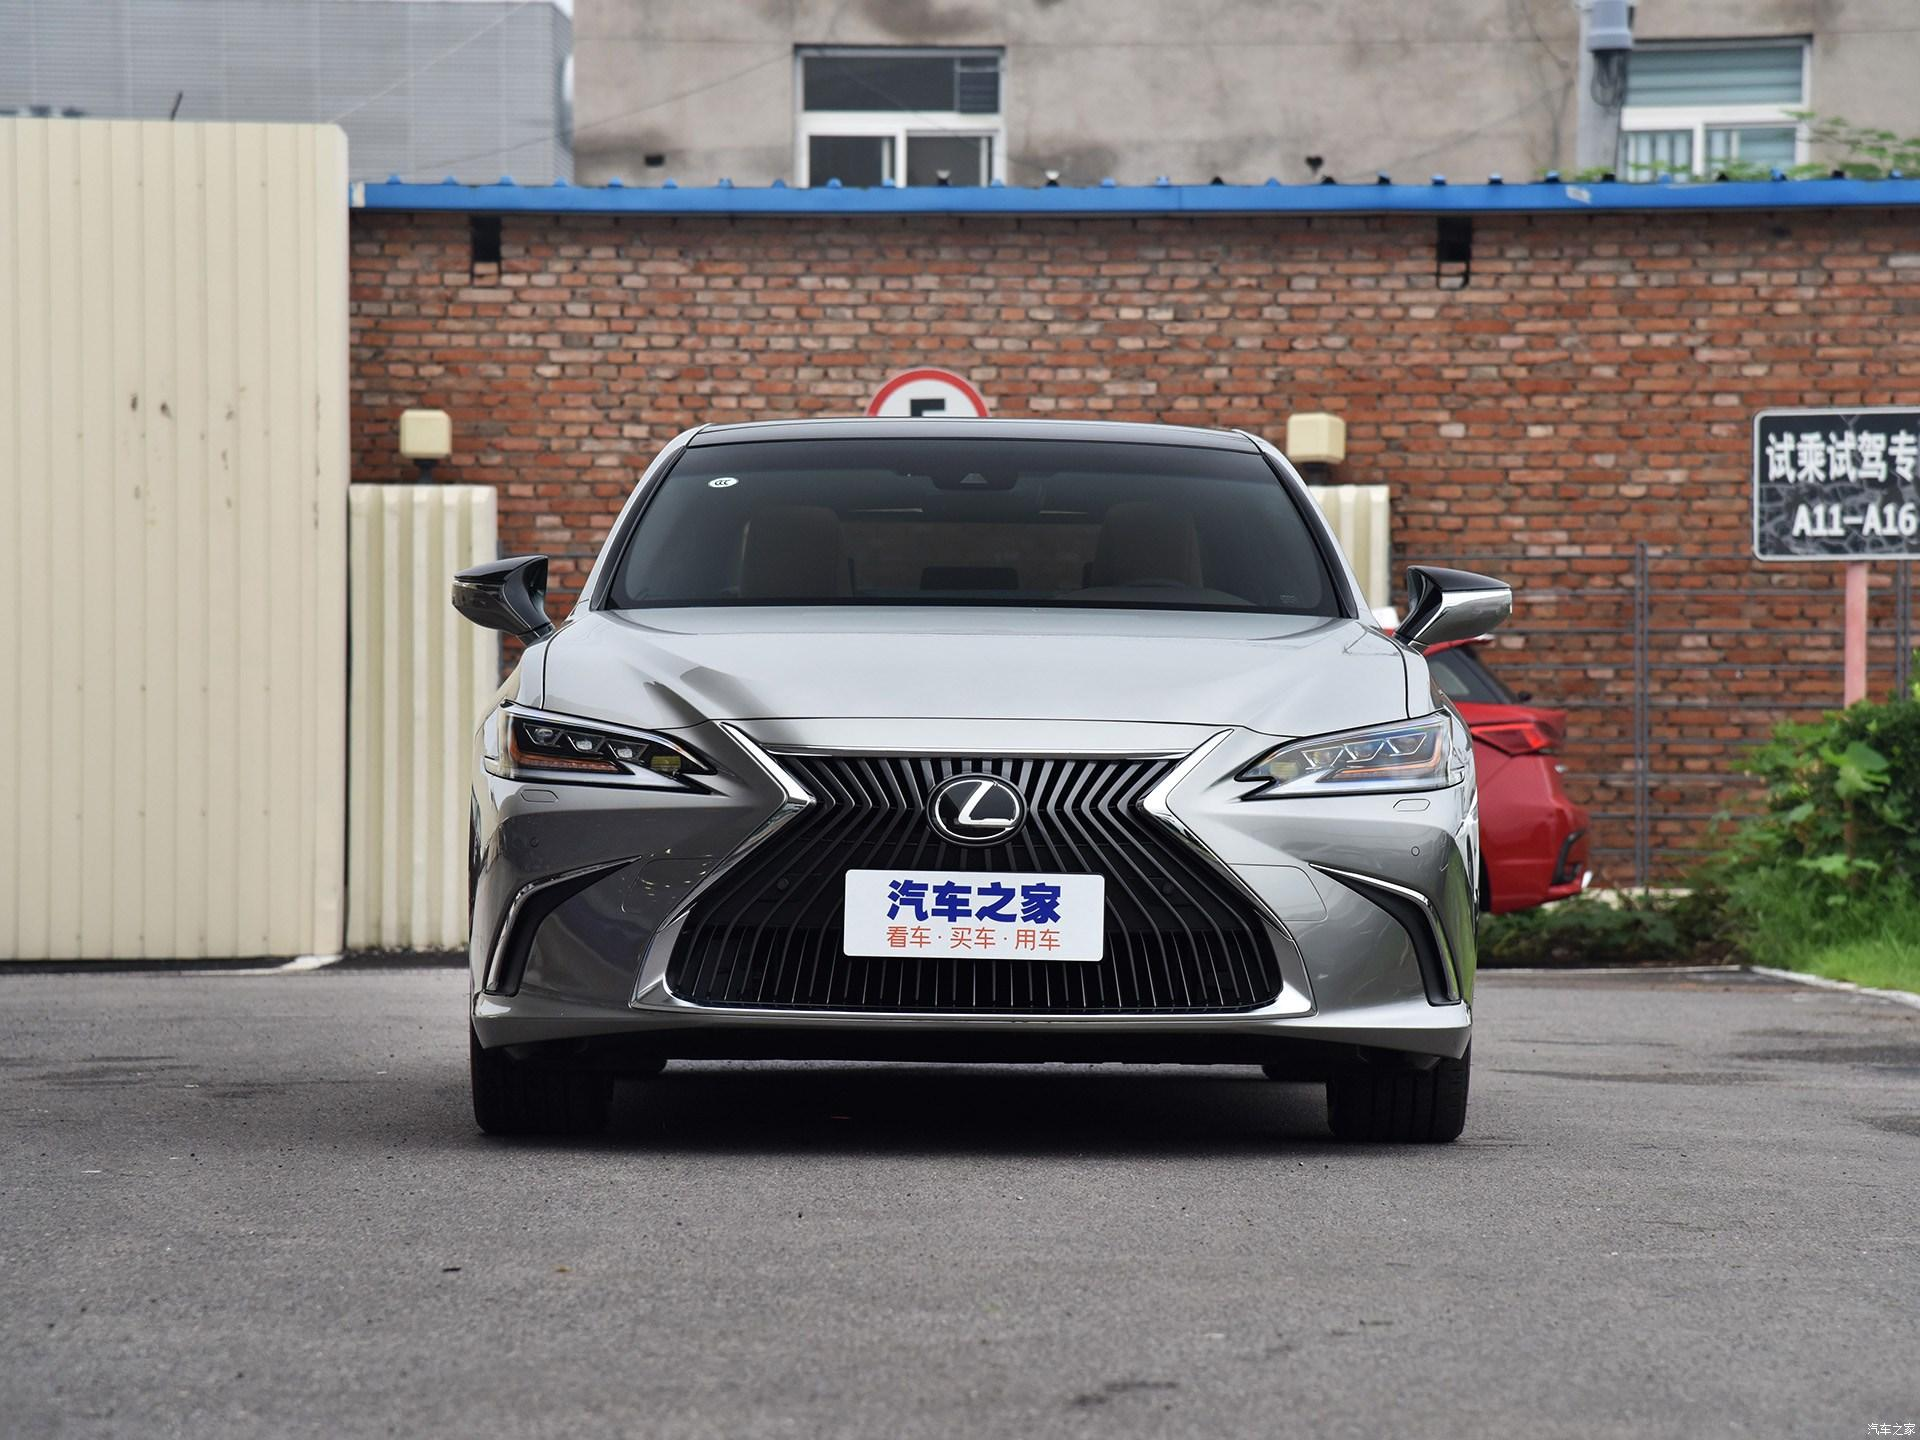car: (304, 377, 1649, 1231)
